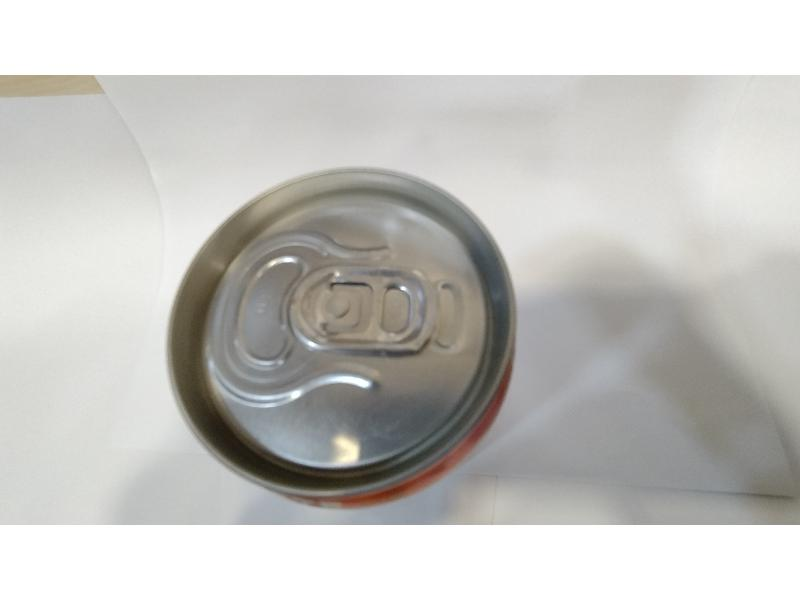can: (163, 162, 521, 507)
